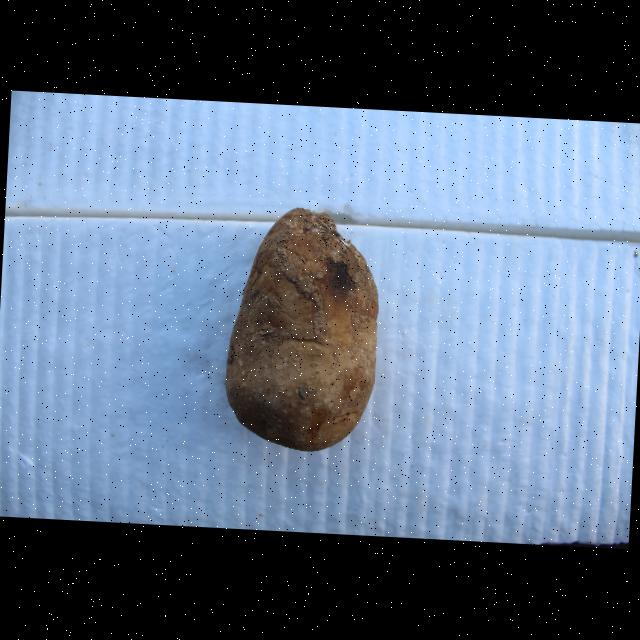Diseased-fungal potato: (201, 198, 392, 457)
